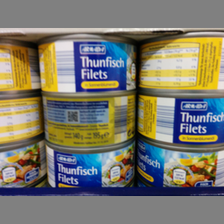fish: (36, 36, 137, 91), (39, 94, 137, 148), (138, 89, 222, 151), (139, 33, 224, 89), (136, 136, 224, 187), (43, 142, 139, 187), (1, 94, 45, 148), (1, 140, 46, 187), (1, 35, 40, 89)
